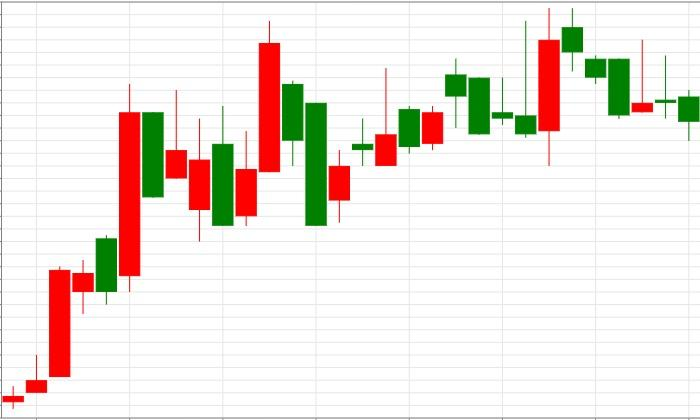bullish_engulfing_rise: (446, 8, 561, 166)
